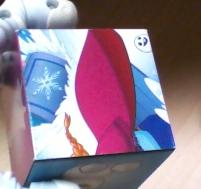Red1: (16, 30, 175, 160)
